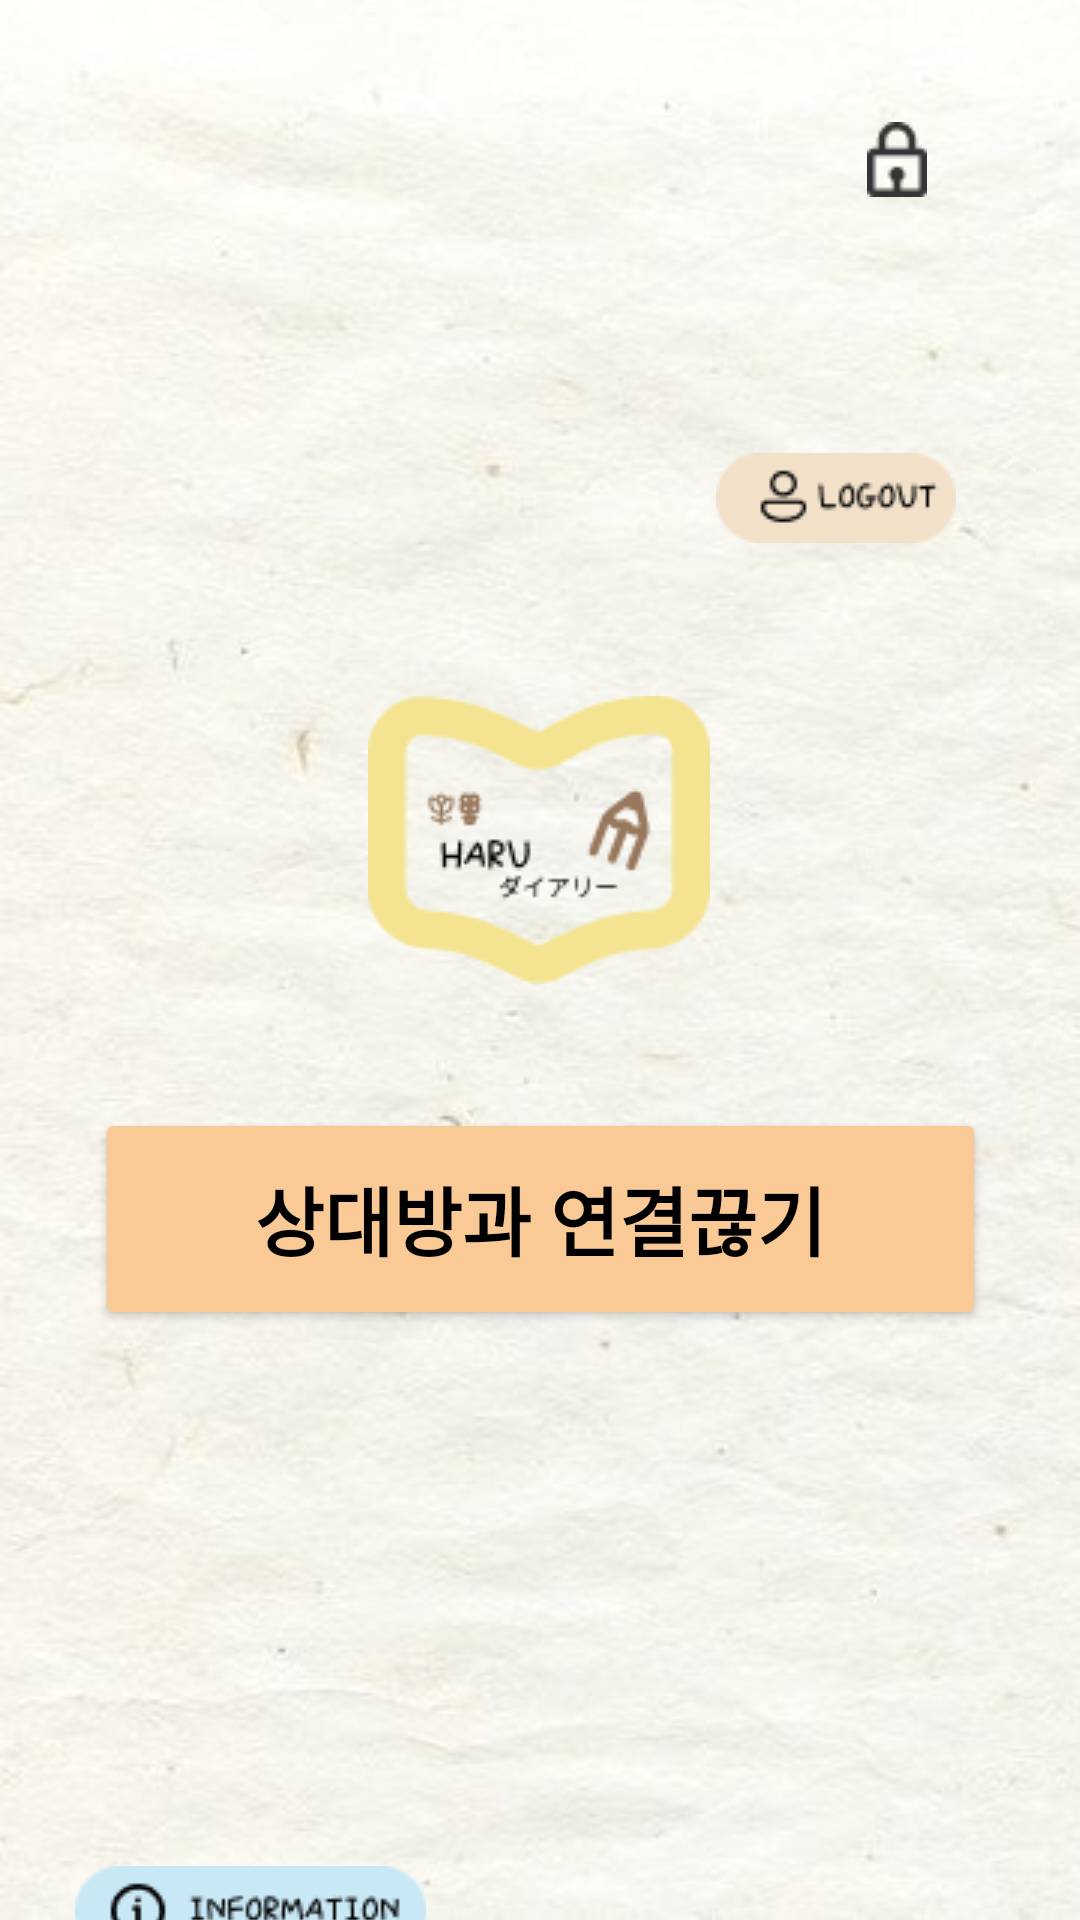

Icon click points for this 1080*1920 phone screenshot, format [x,y]:
lock: [897,159]
